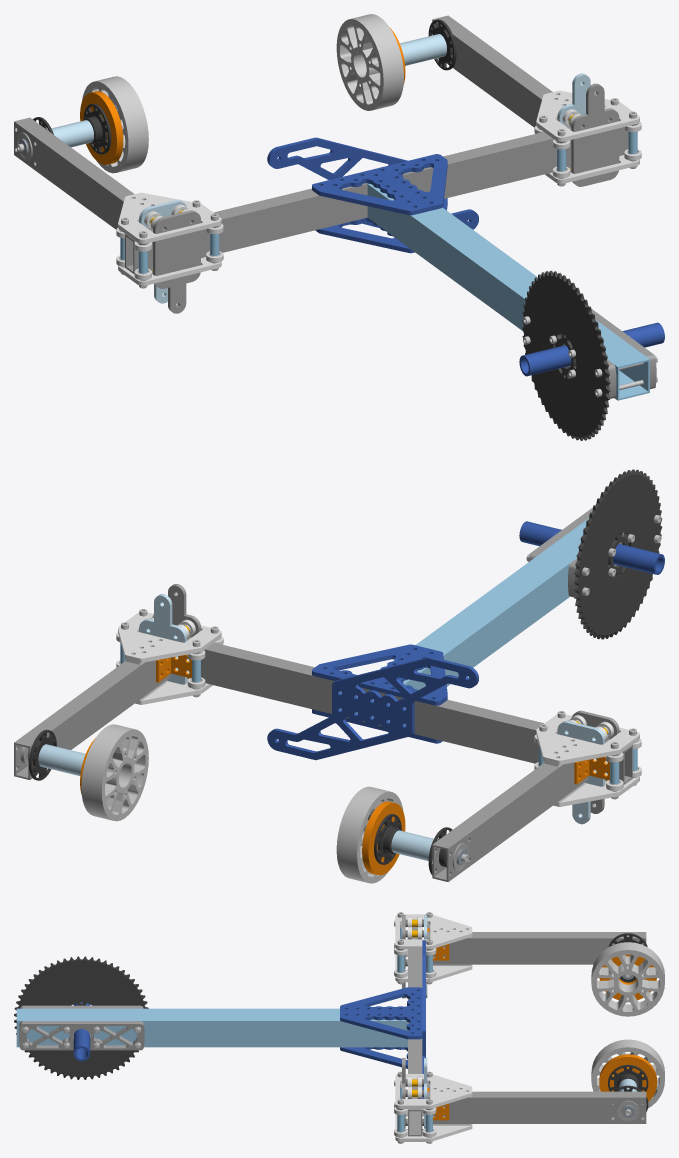
3 views of the same model, one above another, from view 1: azimuth 30°, elevation 25°; view 2: azimuth 150°, elevation 25°; view 3: azimuth 270°, elevation 25° (orthographic). The views are drawn at different scales.
Visible parts, largest first — view 1: 04.01 Gripper (1) <1>, 03.03 Top Arm, Plate Sprocket (60T, #35 Chain, 1-1/8" Bearing Bore), 4" OD 30A Straight Flex Wheel (217-6450) (×2), 1/2" Hex Bore Aluminum Versahub (217-2592) (×2); view 2: 04.01 Gripper (1) <1>, 03.03 Top Arm, Plate Sprocket (60T, #35 Chain, 1-1/8" Bearing Bore), 4" OD 30A Straight Flex Wheel (217-6450) (×2), 1/2" Hex Bore Aluminum Versahub (217-2592) (×2); view 3: 04.01 Gripper (1) <1>, 03.03 Top Arm, Plate Sprocket (60T, #35 Chain, 1-1/8" Bearing Bore), 4" OD 30A Straight Flex Wheel (217-6450) (×2), 1/2" Hex Bore Aluminum Versahub (217-2592).
Boxes of the visible parts, x1,y1,x2,y2 form: 04.01 Gripper (1) <1>: (14,15,639,313); 03.03 Top Arm: (367,183,664,400); Plate Sprocket (60T, #35 Chain, 1-1/8" Bearing Bore): (522,270,610,440); 4" OD 30A Straight Flex Wheel (217-6450) (×2): (82,14,403,173); 1/2" Hex Bore Aluminum Versahub (217-2592) (×2): (83,19,456,154); 04.01 Gripper (1) <1>: (14,584,639,881); 03.03 Top Arm: (403,507,664,689); Plate Sprocket (60T, #35 Chain, 1-1/8" Bearing Bore): (574,469,662,639); 4" OD 30A Straight Flex Wheel (217-6450) (×2): (81,724,403,883); 1/2" Hex Bore Aluminum Versahub (217-2592) (×2): (28,729,401,864); 04.01 Gripper (1) <1>: (340,914,657,1141); 03.03 Top Arm: (16,1002,407,1061); Plate Sprocket (60T, #35 Chain, 1-1/8" Bearing Bore): (14,956,148,1079); 4" OD 30A Straight Flex Wheel (217-6450) (×2): (591,942,664,1108); 1/2" Hex Bore Aluminum Versahub (217-2592): (608,1064,648,1091).
Size of the model in its own units: 0.629 by 0.1872 by 0.8984.
